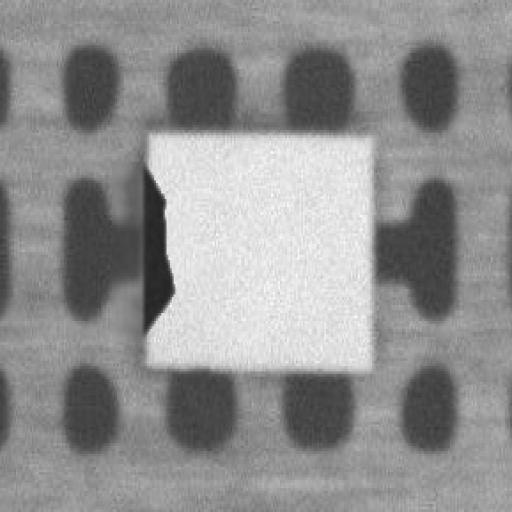DIE_BROKEN: (134, 156, 174, 340)
